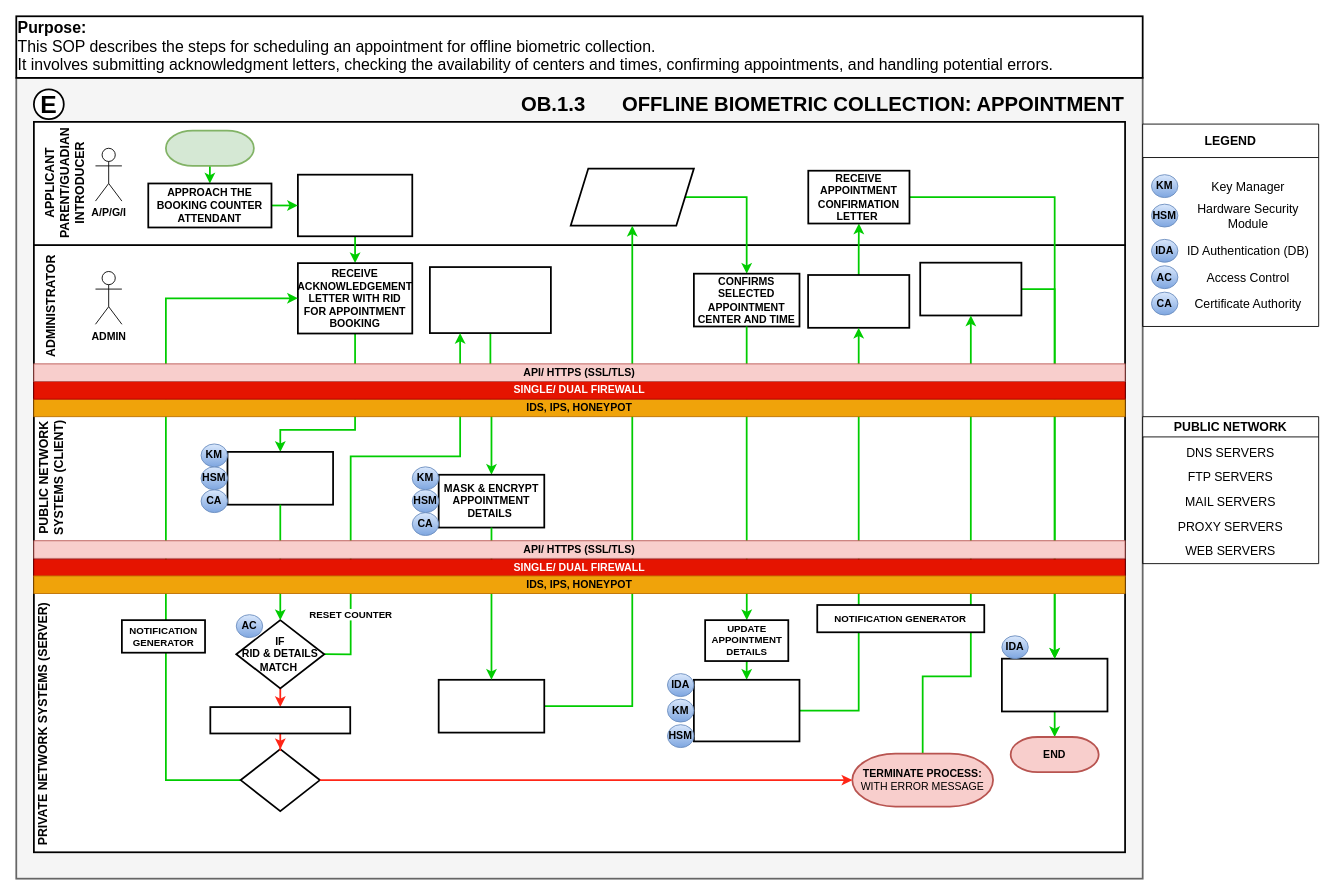
This 1334x894 diagram has some shape labels left out. The shapes that lost their labels are listed below. From the top down, each one's centre as x and y in pixels, then its label:
point 209,147: START
point 355,205: SUBMIT ACKNOWLEDGE-MENT LETTER AND WITH RID
point 631,196: SELECTS DESIRED APPOINTMENT CENTER TIME
point 490,300: CHECKS AVAILABILITY OF CENTER AND TIME FOR BIOMETRIC COLLECTION APPOINTMENT
point 858,301: PRINTS APPOINTMENT CONFIRMATION LETTER WITH RID
point 970,288: PRINTS APPOINTMENT FAILURE LETTER WITH ERROR
point 280,478: MASK & ENCRYPT APPLICATION DETAILS
point 1054,684: LOGS THE PROCESS AND STATUS
point 280,720: EXCEPTION AND ERROR HANDLING (COUNTER)
point 491,705: NOTIFIES AVAILABLE APPOINTMENTS
point 746,710: STORE APPOINTMENT DETAILS IN RID ACCOUNT
point 279,780: IF RETRY COUNT <=3
